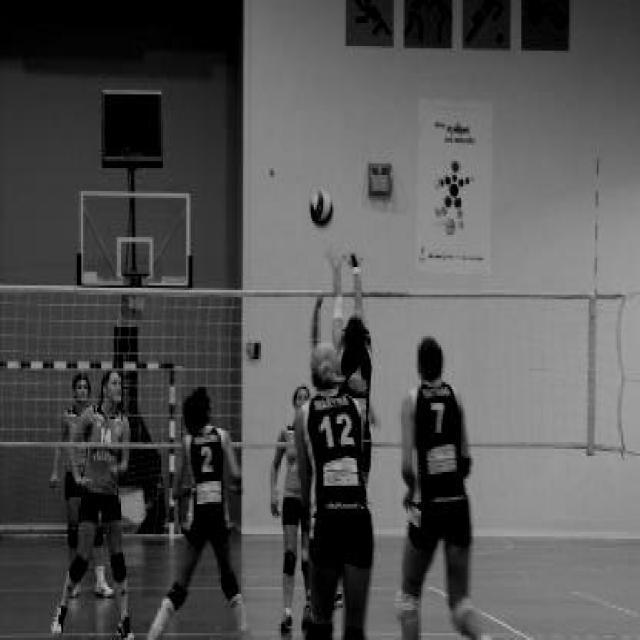volleyball: (308, 185, 334, 227)
